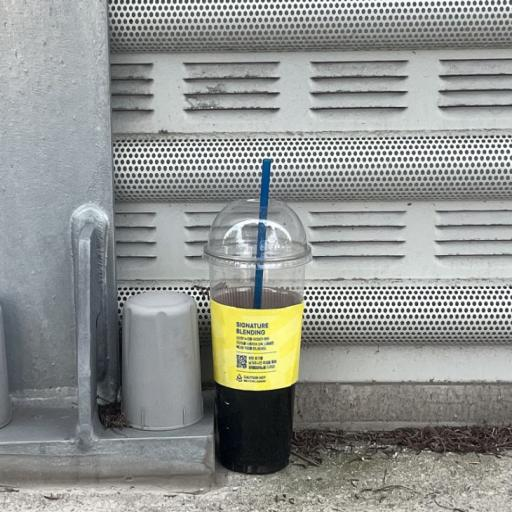paper: (210, 301, 302, 391)
plastic: (204, 199, 311, 309), (122, 292, 202, 430), (215, 384, 294, 474)
